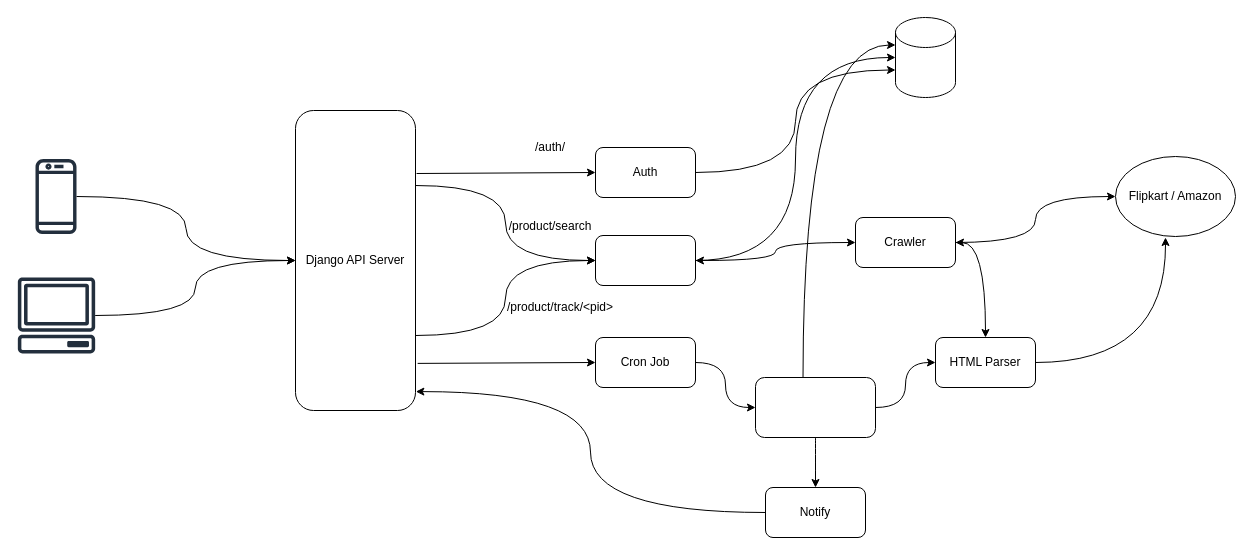
The diagram is 1253 pixels wide and 555 high, and some of its shapes have lost their labels. The shapes that lost their labels are listed below. From the top down, each one's box as (x1, y1, x2, y2) in pixels, then its label:
(894, 16, 956, 98): DB
(594, 234, 696, 286): Product
(754, 376, 876, 438): Track Service
